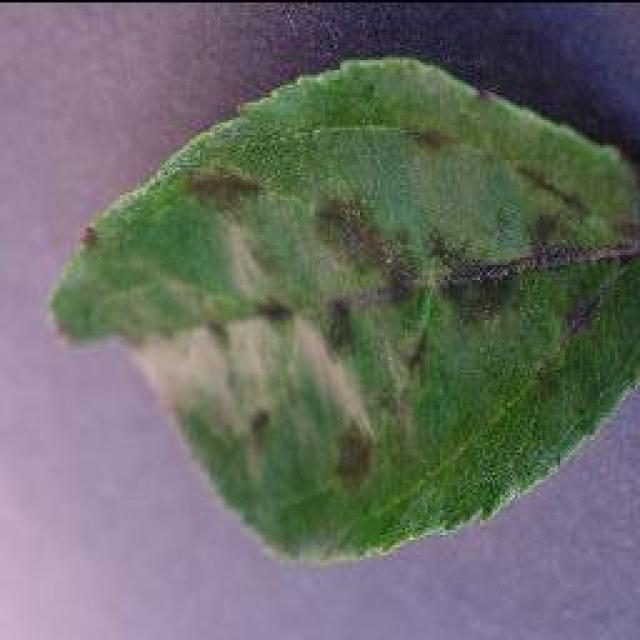apple scab disease: (45, 53, 637, 565)
